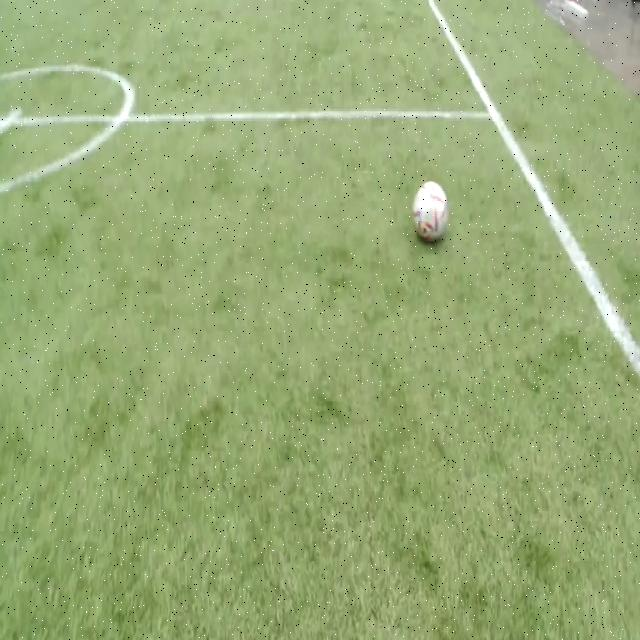ball: (413, 180, 448, 241)
